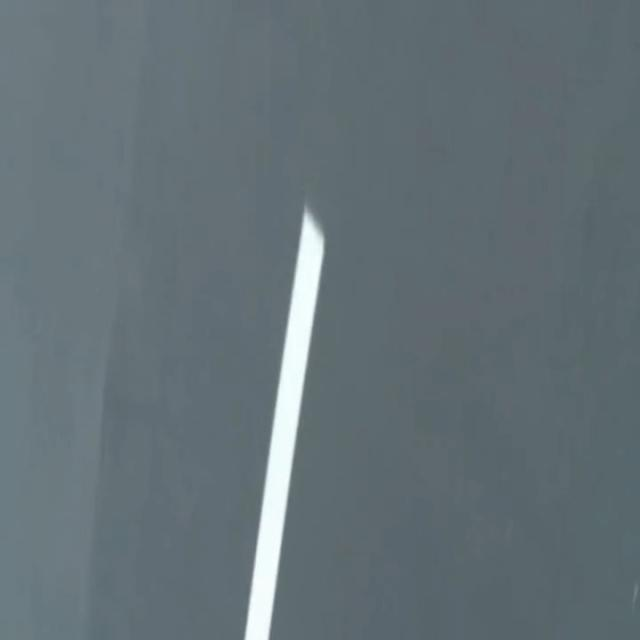center: (244, 206, 324, 639)
